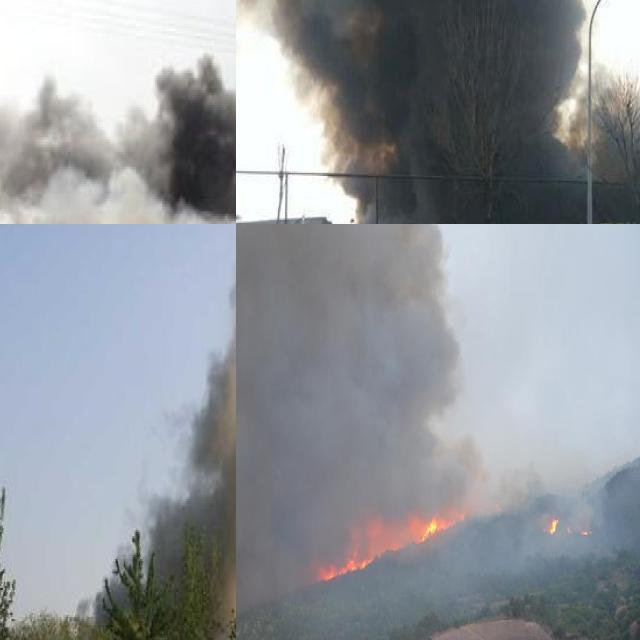fire: (314, 510, 460, 578), (545, 510, 592, 540)
smoke: (236, 224, 640, 631), (236, 0, 640, 220), (74, 224, 236, 639), (0, 0, 236, 224)
